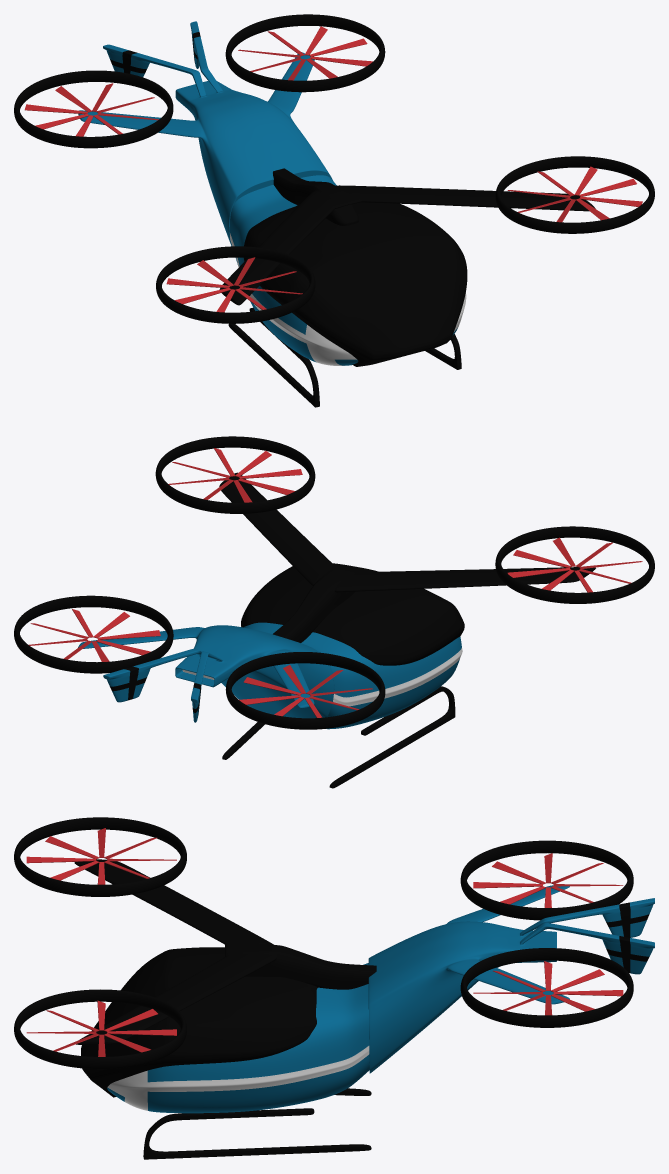
File: YS_VTOL.glb
3 views of the same model, one above another, from view 1: azimuth 30°, elevation 25°; view 2: azimuth 150°, elevation 25°; view 3: azimuth 270°, elevation 25° (orthographic). The views are drawn at different scales.
Parts seen in each view (by area): view 1: Plane.002, Plane.001, Plane.003, Torus, Torus.001, Plane, Cube, Rotor NW, Rotor NE, Rotor SW, Rotor SE; view 2: Plane.002, Plane.001, Plane.003, Torus, Torus.001, Plane, Cube, Rotor NW, Rotor NE, Rotor SW, Rotor SE; view 3: Plane.001, Plane.002, Plane, Plane.003, Torus.001, Torus, Cube, Rotor NW, Rotor NE, Rotor SE, Rotor SW.
Part boxes in pixels (x1=…): Plane.002: x1=244, y1=202, x2=467, y2=366; Plane.001: x1=78, y1=21, x2=332, y2=245; Plane.003: x1=219, y1=168, x2=595, y2=305; Torus: x1=14, y1=14, x2=385, y2=148; Torus.001: x1=156, y1=156, x2=654, y2=323; Plane: x1=229, y1=175, x2=466, y2=365; Cube: x1=228, y1=307, x2=461, y2=407; Rotor NW: x1=507, y1=166, x2=642, y2=222; Rotor NE: x1=166, y1=257, x2=302, y2=312; Rotor SW: x1=238, y1=26, x2=372, y2=80; Rotor SE: x1=24, y1=83, x2=158, y2=136; Plane.002: x1=241, y1=563, x2=464, y2=665; Plane.001: x1=78, y1=625, x2=334, y2=722; Plane.003: x1=219, y1=472, x2=595, y2=642; Torus: x1=14, y1=595, x2=385, y2=729; Torus.001: x1=155, y1=436, x2=654, y2=603; Plane: x1=243, y1=622, x2=462, y2=729; Cube: x1=222, y1=686, x2=455, y2=788; Rotor NW: x1=168, y1=448, x2=302, y2=502; Rotor NE: x1=507, y1=537, x2=642, y2=592; Rotor SW: x1=29, y1=609, x2=160, y2=661; Rotor SE: x1=239, y1=665, x2=372, y2=717; Plane.001: x1=368, y1=885, x2=654, y2=1073; Plane.002: x1=81, y1=947, x2=317, y2=1097; Plane: x1=107, y1=963, x2=369, y2=1113; Plane.003: x1=74, y1=859, x2=376, y2=1045; Torus.001: x1=14, y1=817, x2=186, y2=1069; Torus: x1=460, y1=840, x2=633, y2=1027; Cube: x1=143, y1=1088, x2=371, y2=1159; Rotor NW: x1=26, y1=1000, x2=176, y2=1056; Rotor NE: x1=26, y1=828, x2=176, y2=884; Rotor SE: x1=473, y1=853, x2=623, y2=907; Rotor SW: x1=473, y1=961, x2=623, y2=1015.
Bounding box in the file's own units: 9.34 × 3.48 × 10.
